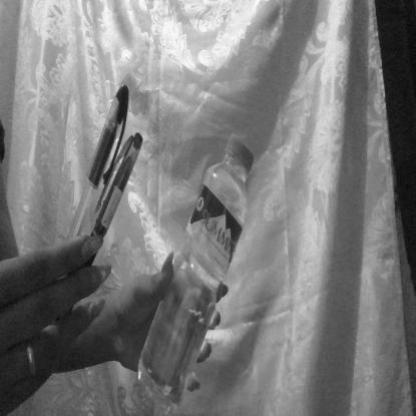Plastic Bottle: (154, 121, 262, 410)
